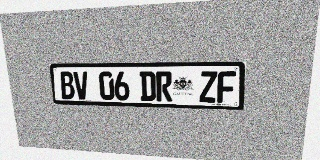0: (98, 71, 115, 100)
6: (113, 71, 130, 101)
B: (59, 72, 75, 99)
D: (140, 71, 156, 101)
F: (217, 71, 236, 103)
R: (156, 71, 172, 102)
V: (73, 72, 89, 100)
Z: (199, 71, 217, 103)
